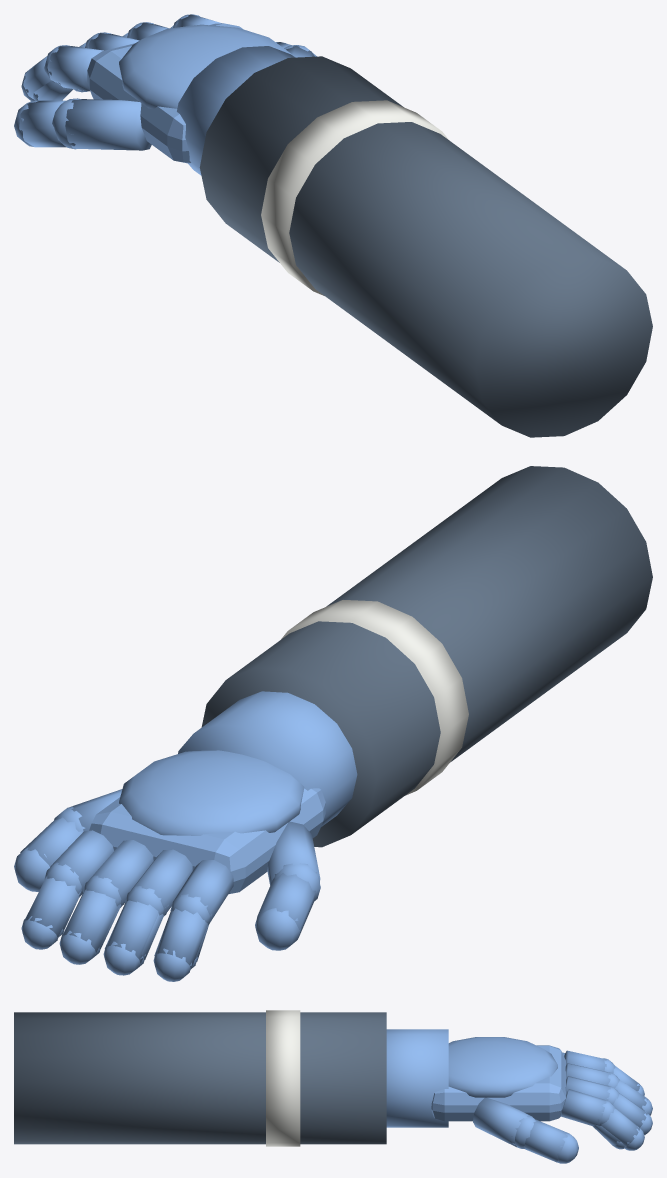
Rendered from FirstPersonHands.fbx.
3 views of the same model, one above another, from view 1: azimuth 30°, elevation 25°; view 2: azimuth 150°, elevation 25°; view 3: azimuth 270°, elevation 25° (orthographic). The views are drawn at different scales.
Visible parts, largest first — view 1: Sleeve_L, Sleeve_Stripe_L, Glove_Back_L, Glove_Cuff_L, Glove_Palm_L, Glove_Thumb_A_R, Glove_Finger4_A_L, Glove_Thumb_B_R, Glove_Finger4_B_L, Glove_Thumb_A_R_Tip; view 2: Sleeve_L, Glove_Back_L, Glove_Cuff_L, Sleeve_Stripe_L, Glove_Palm_L, Glove_Finger3_B_R, Glove_Finger3_A_R, Glove_Finger4_A_L, Glove_Finger4_B_L, Glove_Thumb_B_R, Glove_Finger4_B_R, Glove_Thumb_A_R (+11 smaller); view 3: Sleeve_L, Glove_Cuff_L, Glove_Back_L, Sleeve_Stripe_L, Glove_Palm_L, Glove_Thumb_A_L, Glove_Finger4_A_R, Glove_Thumb_B_L, Glove_Finger4_B_R, Glove_Finger3_A_R, Glove_Finger3_A_L, Glove_Finger3_B_R (+6 smaller).
Part boxes in pixels (<box>): Sleeve_L: <box>199,56,652,437</box>; Sleeve_Stripe_L: <box>261,100,449,295</box>; Glove_Back_L: <box>119,24,295,108</box>; Glove_Cuff_L: <box>177,46,294,175</box>; Glove_Palm_L: <box>87,23,242,163</box>; Glove_Thumb_A_R: <box>65,99,151,150</box>; Glove_Finger4_A_L: <box>47,46,103,91</box>; Glove_Thumb_B_R: <box>19,100,66,147</box>; Glove_Finger4_B_L: <box>23,56,50,99</box>; Glove_Thumb_A_R_Tip: <box>52,98,81,149</box>; Sleeve_L: <box>201,466,652,847</box>; Glove_Back_L: <box>119,750,304,835</box>; Glove_Cuff_L: <box>178,691,357,826</box>; Sleeve_Stripe_L: <box>281,600,468,795</box>; Glove_Palm_L: <box>89,788,325,893</box>; Glove_Finger3_B_R: <box>63,889,120,952</box>; Glove_Finger3_A_R: <box>89,840,153,904</box>; Glove_Finger4_A_L: <box>172,860,233,922</box>; Glove_Finger4_B_L: <box>154,908,207,968</box>; Glove_Thumb_B_R: <box>257,873,315,937</box>; Glove_Finger4_B_R: <box>24,875,81,937</box>; Glove_Thumb_A_R: <box>267,821,320,885</box>; Sleeve_L: <box>14,1012,386,1144</box>; Glove_Cuff_L: <box>386,1029,448,1127</box>; Glove_Back_L: <box>448,1037,557,1097</box>; Sleeve_Stripe_L: <box>266,1010,300,1146</box>; Glove_Palm_L: <box>431,1045,565,1121</box>; Glove_Thumb_A_L: <box>473,1097,531,1147</box>; Glove_Finger4_A_R: <box>560,1089,606,1126</box>; Glove_Thumb_B_L: <box>523,1119,568,1162</box>; Glove_Finger4_B_R: <box>601,1107,639,1147</box>; Glove_Finger3_A_R: <box>565,1076,610,1100</box>; Glove_Finger3_A_L: <box>565,1063,610,1085</box>; Glove_Finger3_B_R: <box>613,1093,647,1127</box>.
Size of the model in its own units: 0.1585 by 0.098 by 0.463.
